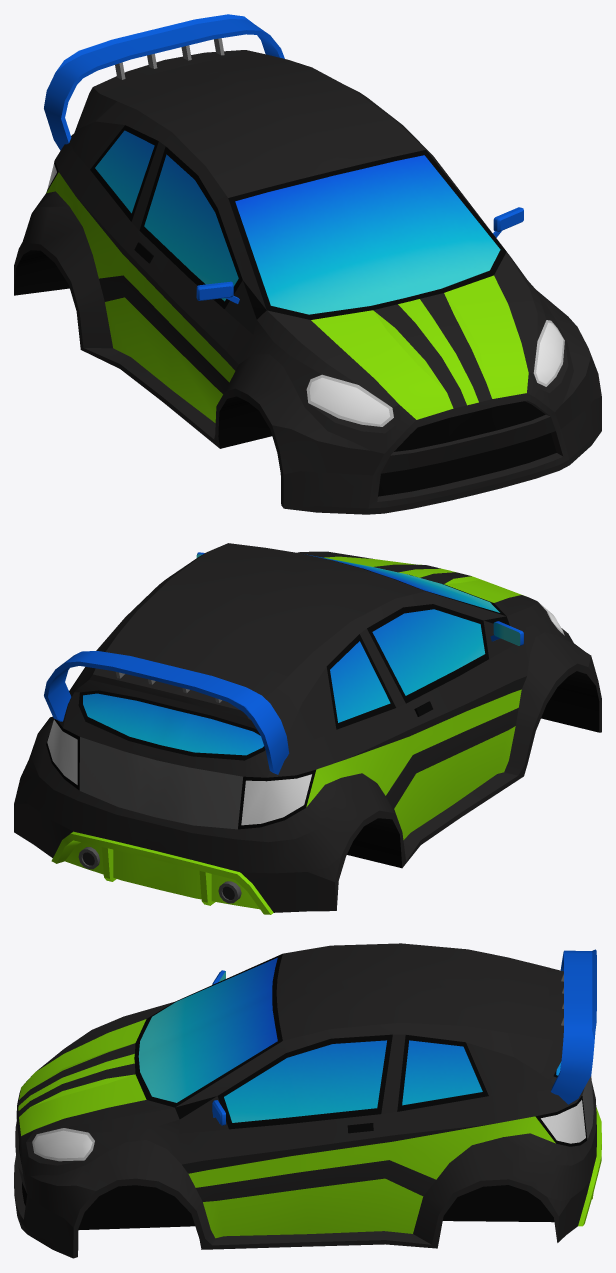
The model's file is Rallygt.fbx.
3 renders of one model, top to bottom at view 1: azimuth 30°, elevation 25°; view 2: azimuth 150°, elevation 25°; view 3: azimuth 270°, elevation 25°, orthographic. The views are drawn at different scales.
Visible parts, largest first — view 1: Body.004; view 2: Body.004; view 3: Body.004.
Boxes of the visible parts, bbox=[...] form: Body.004: bbox=[14, 14, 601, 514]; Body.004: bbox=[14, 543, 601, 914]; Body.004: bbox=[14, 943, 601, 1258].
Size of the model in its own units: 189 by 129 by 325.
